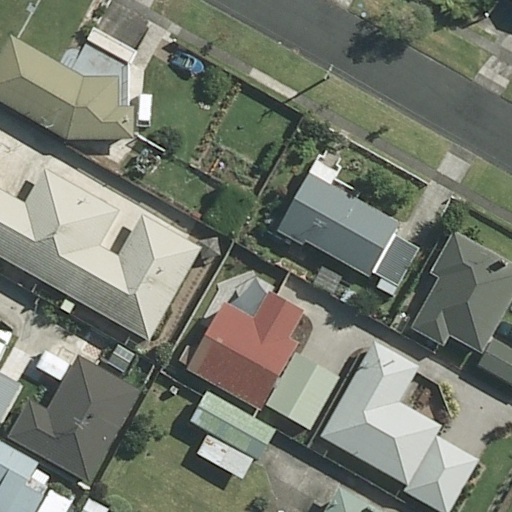DT: (320, 61, 335, 86)
